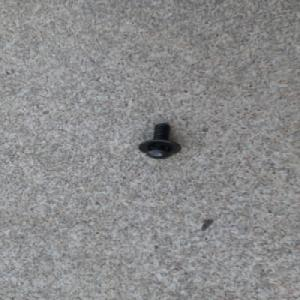BoltWasher: (138, 122, 182, 159)
